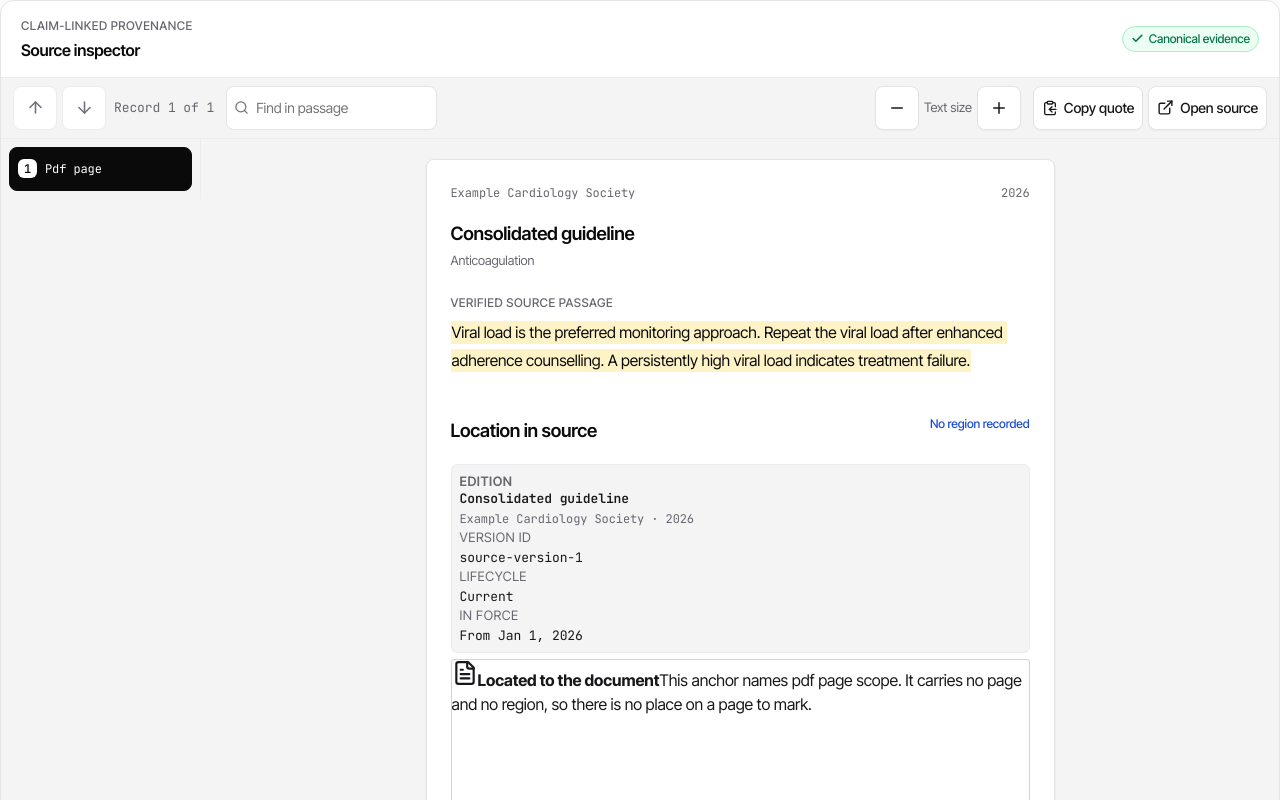
it: SourceViewer, finding a word in a passage › counts the matches and steps through them
Type "viral load" into the search field labelled "Find in passage". click: (331, 108)
box: [226,86,437,130]
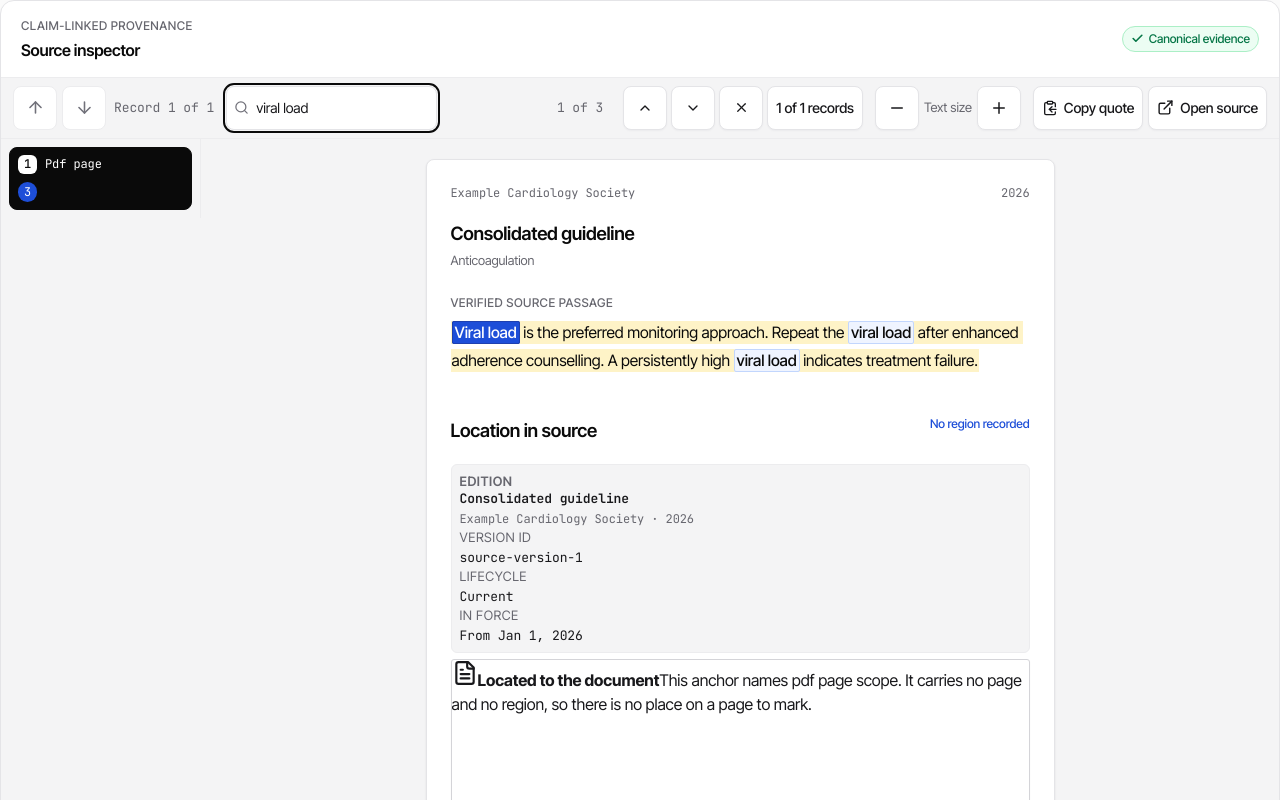
Expected: the text "1 of 3" is shown, [557,99,603,116]
Click the button named "Next match". click: (693, 108)
box: [671,86,715,130]
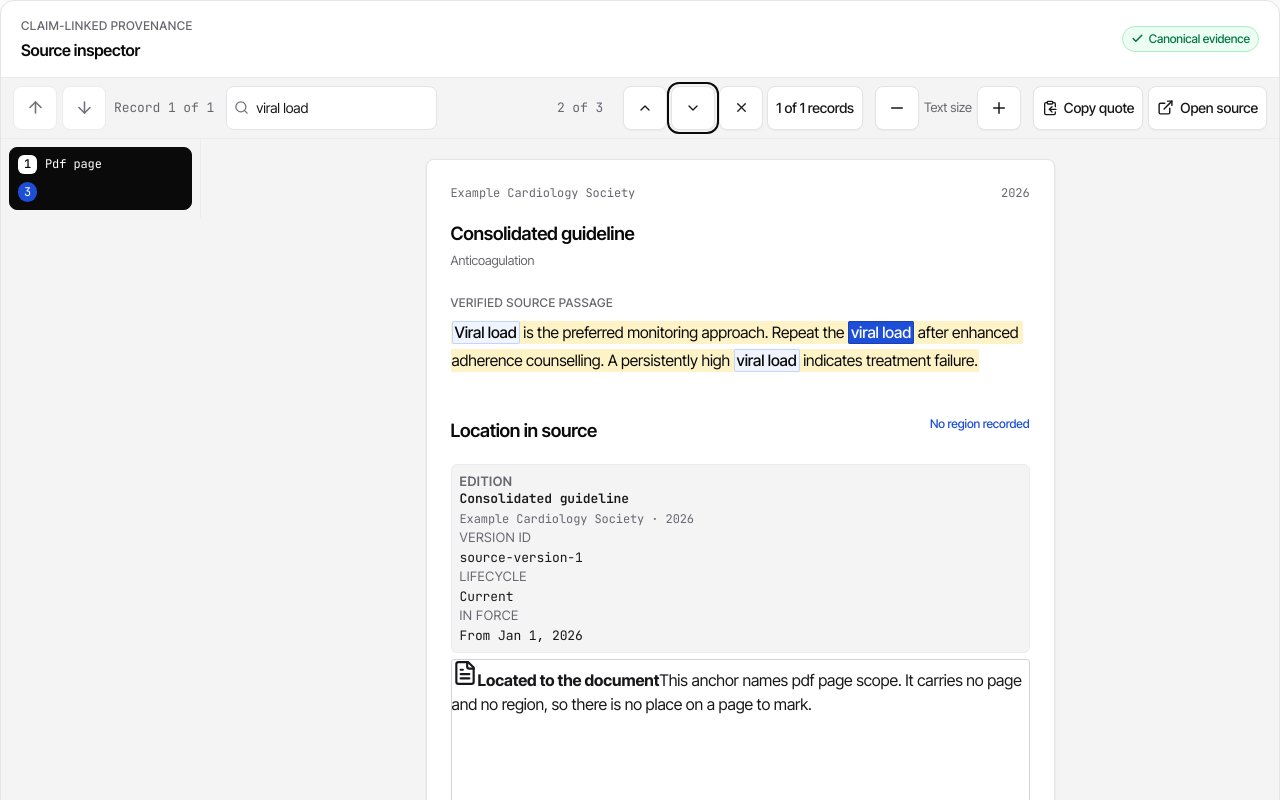
Expected: the text "2 of 3" is shown, [557,99,603,116]
Wraps rather than dead-ending, so a reader holding the key keeps moving.
Click the button named "Next match". click: (693, 108)
box: [671,86,715,130]
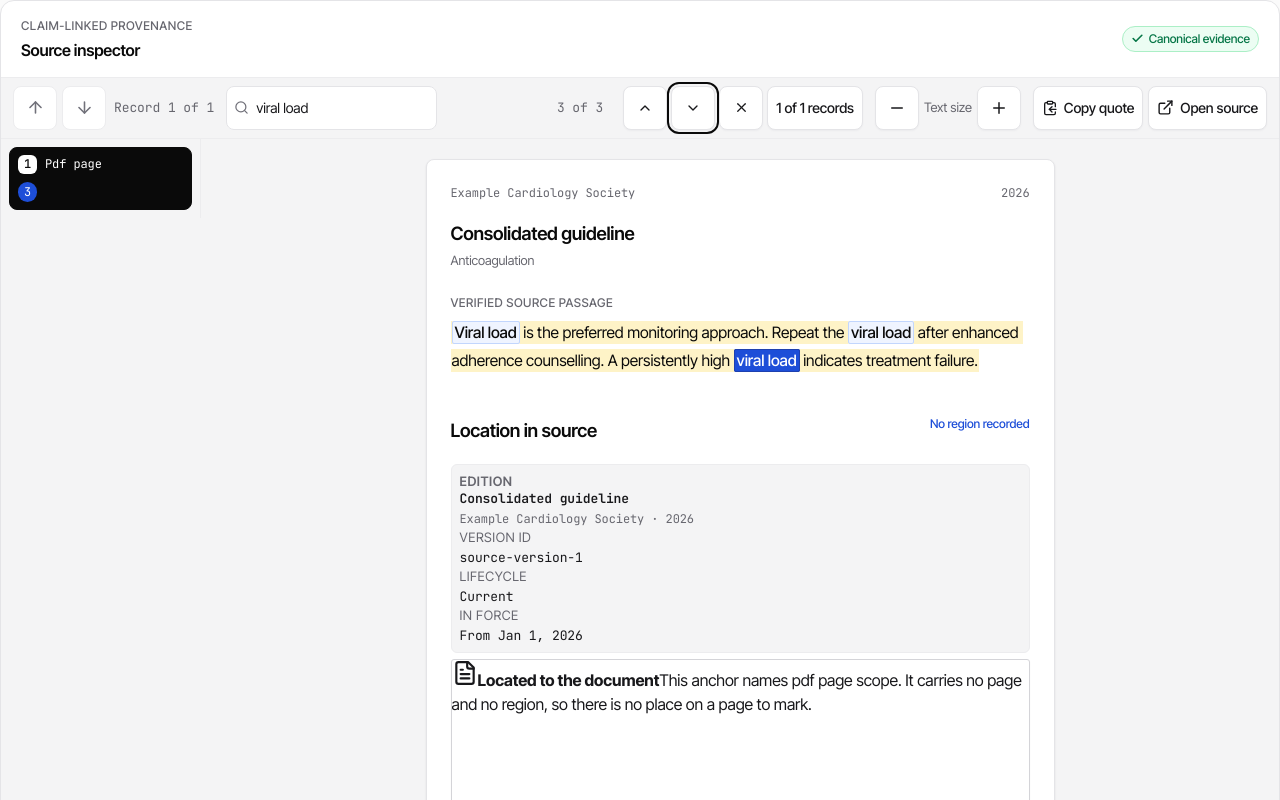
Click the button named "Next match". click: (693, 108)
box: [671,86,715,130]
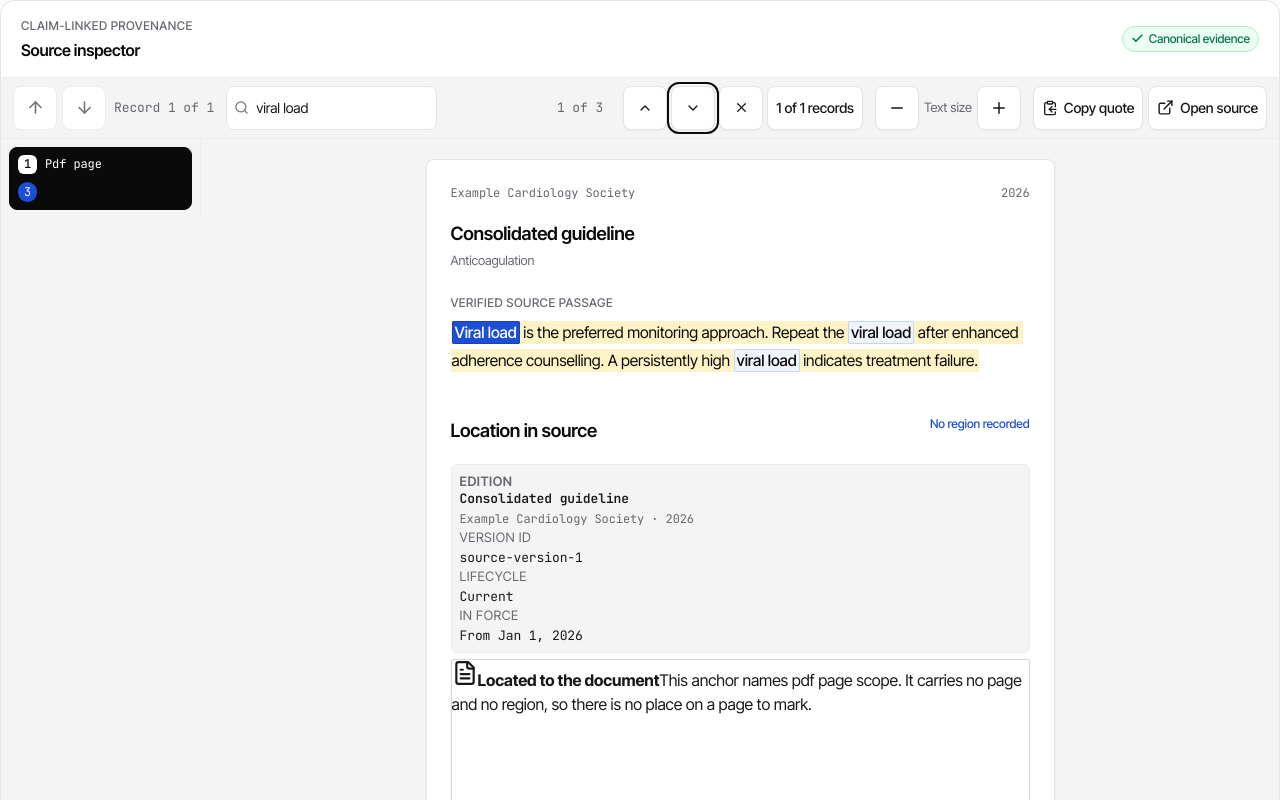
Expected: the text "1 of 3" is shown, [557,99,603,116]
